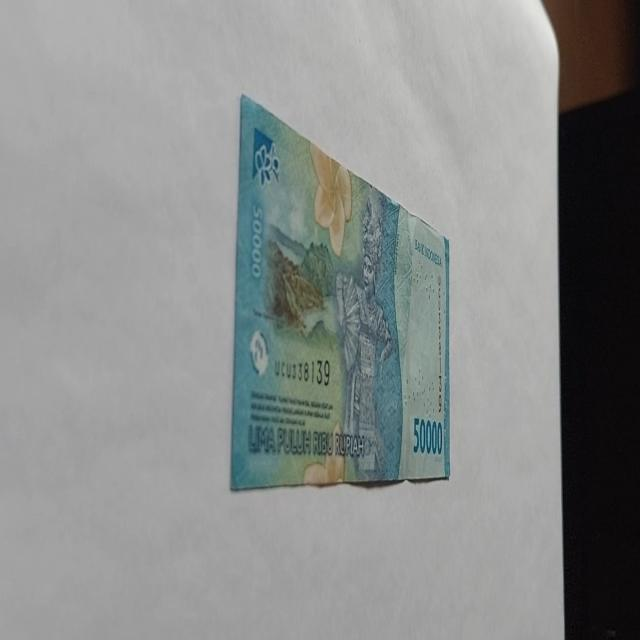lima puluh ribu rupiah: (228, 92, 452, 492)
